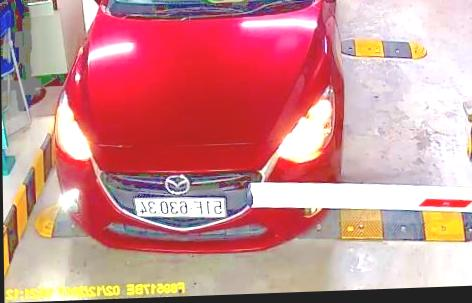License_Plate: (134, 193, 226, 220)
